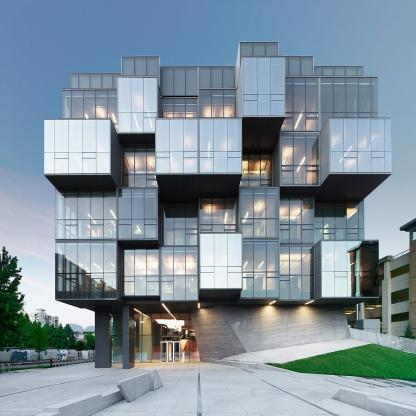Building Outline: (44, 41, 416, 380)
Door: (161, 341, 180, 362)
Facade: (95, 74, 344, 363)
Floor: (44, 134, 392, 186), (55, 245, 379, 300), (55, 189, 364, 241)
Floor Slab: (55, 299, 379, 303), (55, 185, 375, 189), (44, 130, 392, 133), (55, 242, 379, 245)
Glass Wall: (111, 313, 201, 363), (44, 120, 110, 174), (55, 243, 116, 299), (330, 119, 392, 173), (321, 242, 379, 298), (55, 189, 116, 239), (244, 57, 285, 116), (321, 77, 378, 118), (200, 234, 242, 288), (200, 119, 241, 173), (156, 119, 197, 173), (118, 77, 157, 132), (241, 241, 279, 297), (117, 189, 157, 239), (281, 77, 318, 131), (315, 200, 364, 240), (161, 247, 198, 299), (241, 188, 279, 238), (281, 135, 319, 185), (279, 246, 314, 300), (122, 247, 159, 295), (280, 195, 314, 243), (162, 200, 198, 245), (122, 145, 159, 187), (62, 90, 117, 118), (200, 195, 237, 232), (239, 153, 272, 187), (162, 67, 197, 96), (122, 57, 159, 84), (199, 90, 236, 117), (70, 74, 121, 89), (199, 67, 235, 88), (162, 98, 197, 118), (286, 57, 313, 76), (240, 43, 278, 56), (314, 67, 363, 76)
Ground Floor: (95, 303, 344, 363)
Pillar: (95, 307, 109, 368), (123, 305, 129, 369)
Top Floor: (62, 74, 378, 130)
